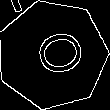O_W: (22, 27, 83, 82)
